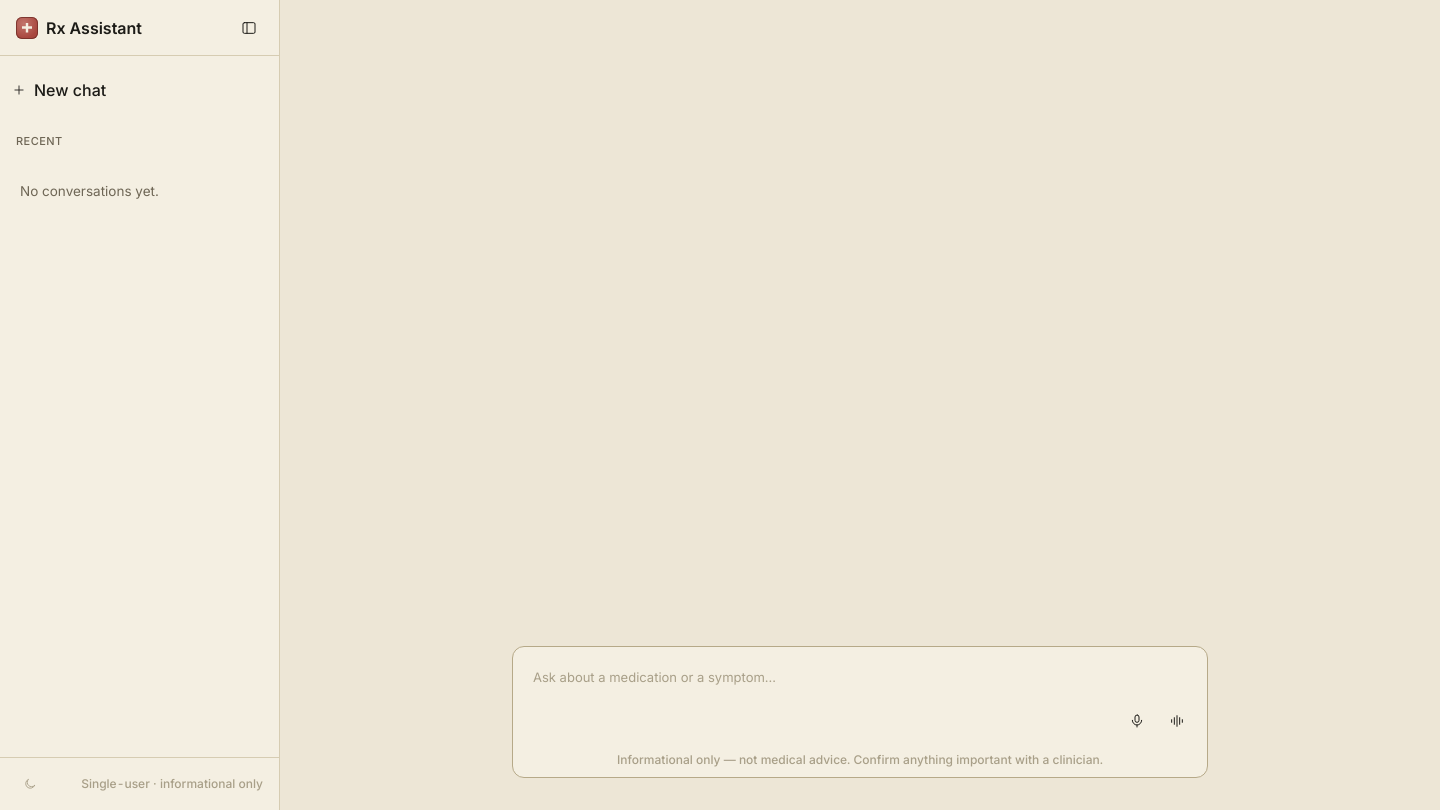
live stream — slice 15 integration › happy path: text + metadata renders settled assistant with footer
This screenshot has width=1440, height=810.
Type "What is ibuprofen?" into the text box with placeholder "Ask about a medication or a symptom…". click: point(860, 679)
box: x1=525 y1=659 x2=1195 y2=699
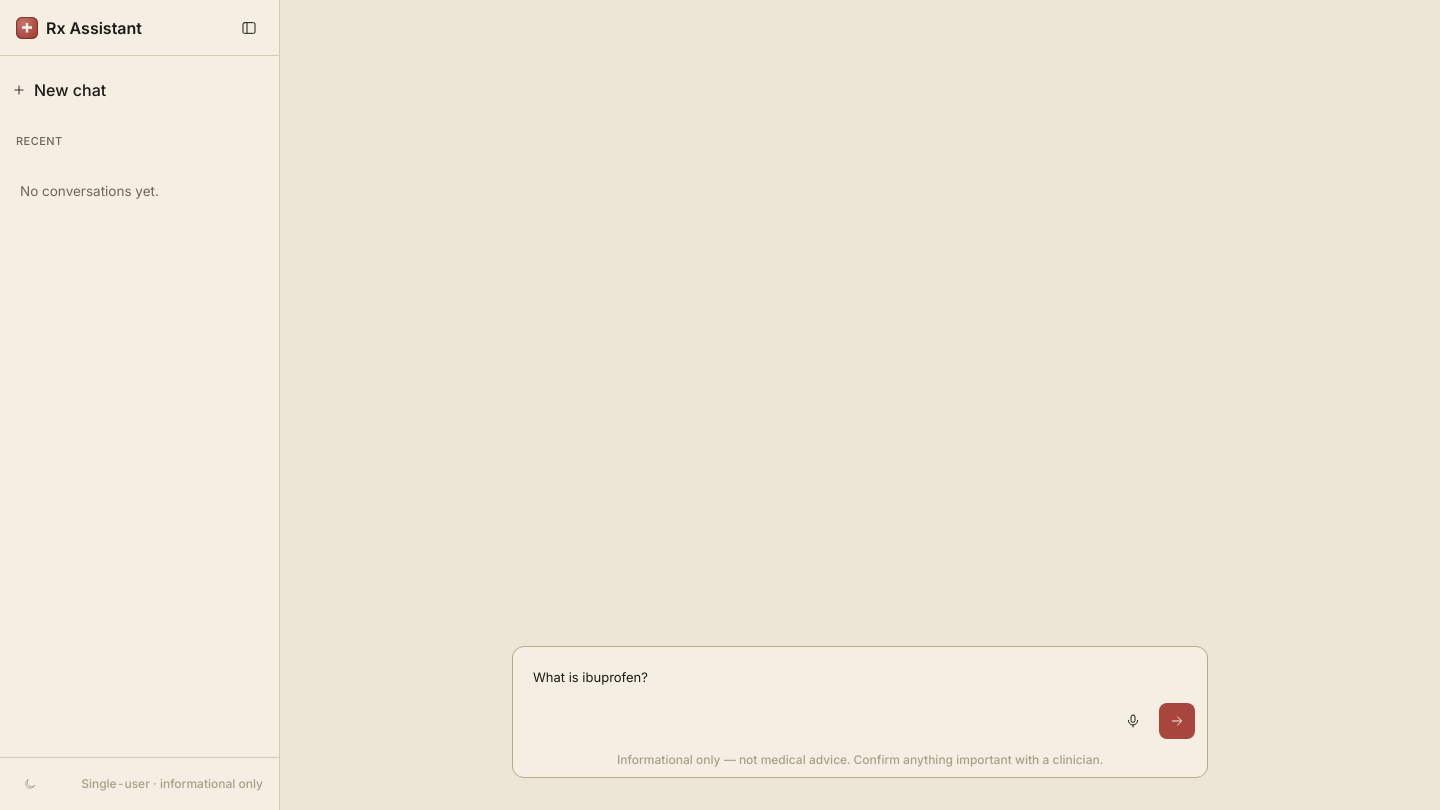
Click the button named "send". click: point(1177, 721)
box: x1=1159 y1=703 x2=1195 y2=739
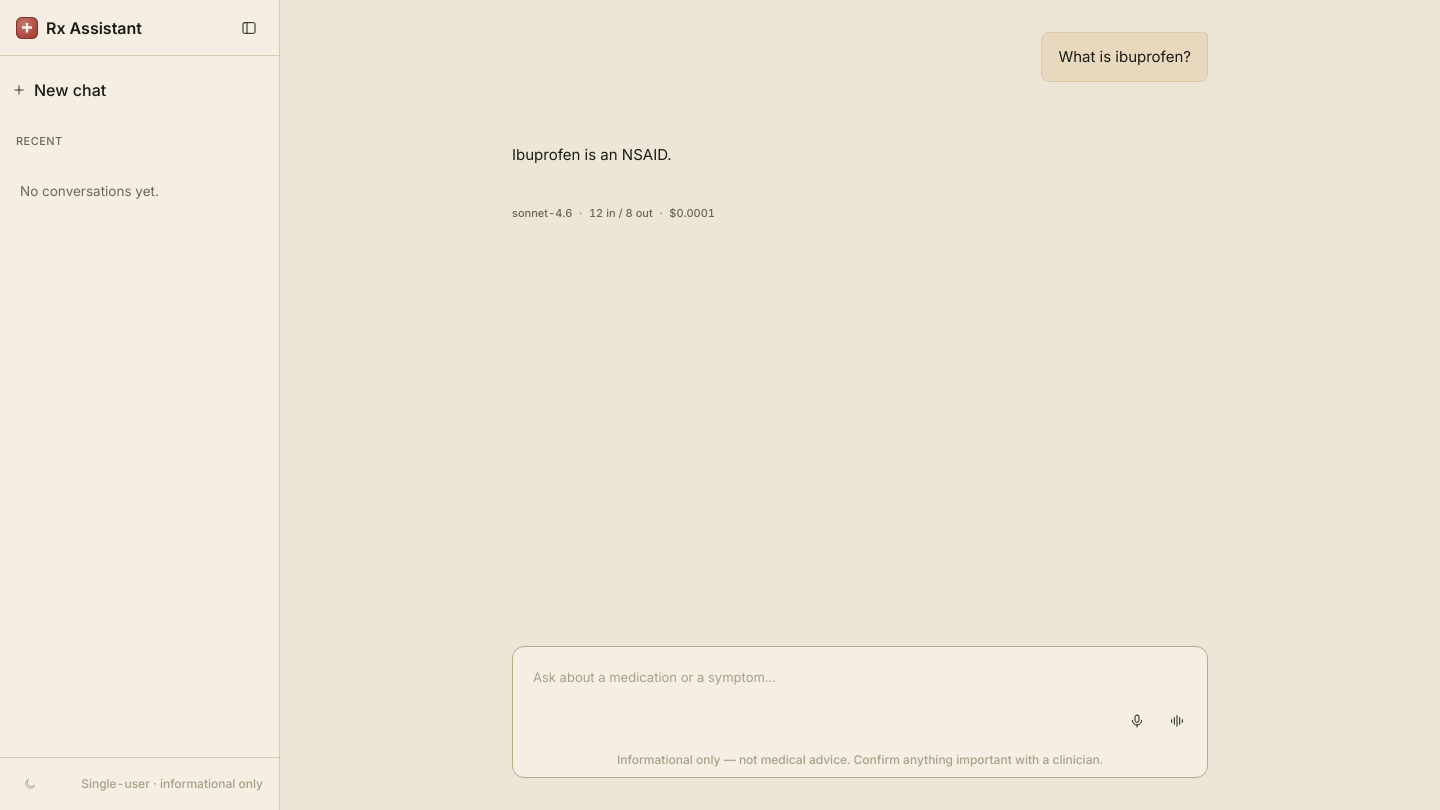
Expected: the text "Ibuprofen is an NSAID." is shown, x1=512 y1=145 x2=672 y2=164
Expected: the text "What is ibuprofen?" is shown, x1=1058 y1=45 x2=1191 y2=69
Expected: the text "sonnet-4.6" is shown, x1=512 y1=204 x2=572 y2=222
